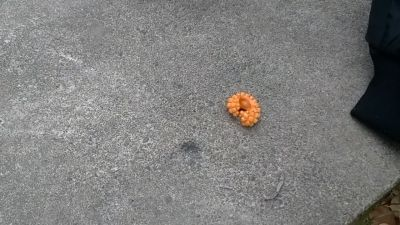eggs: (226, 91, 262, 126)
